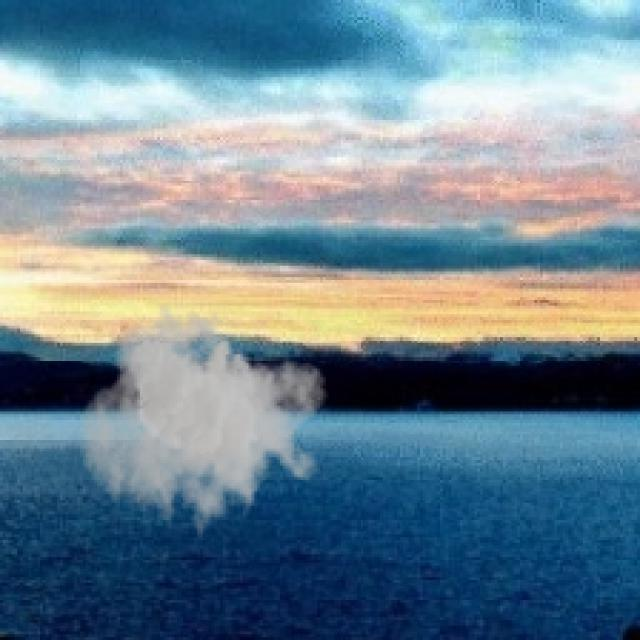Smoke: (80, 302, 329, 548)
